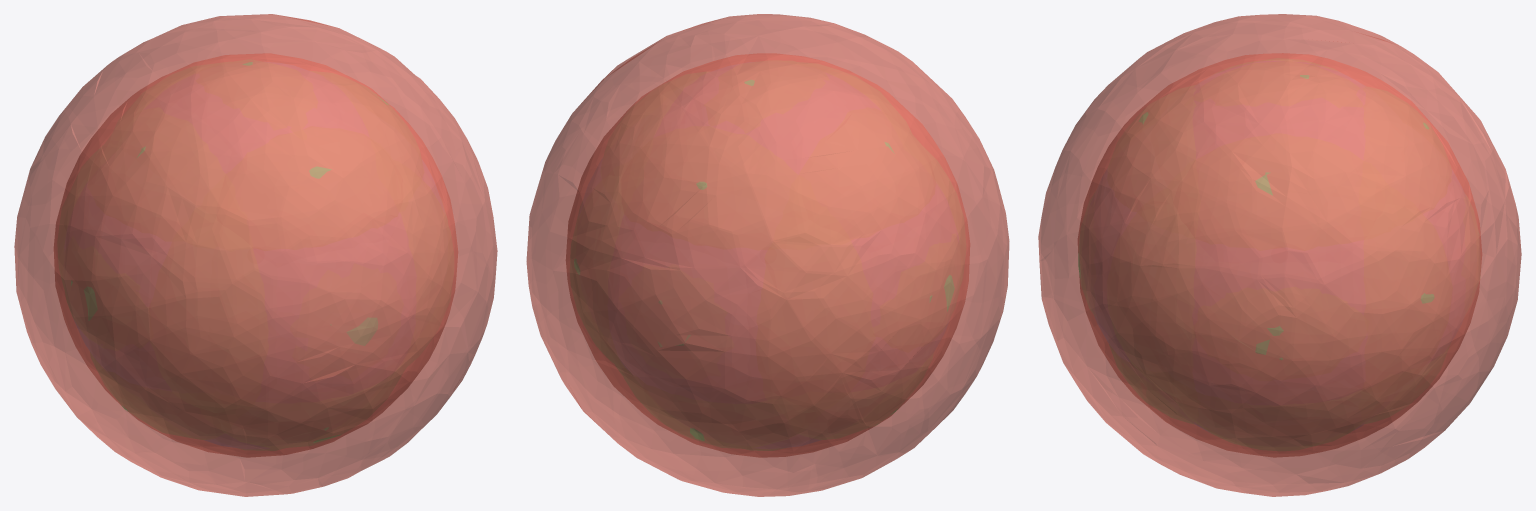
File: orbital.glb
The picture shows the model from 3 angles, left to right: view 1: azimuth 30°, elevation 25°; view 2: azimuth 150°, elevation 25°; view 3: azimuth 270°, elevation 25°; orthographic projection.
Parts seen in each view (by area): view 1: Pt_n6_s_ml0_node, Pt_n5_s_ml0_node, Pt_n5_d_ml0_node; view 2: Pt_n6_s_ml0_node, Pt_n5_s_ml0_node; view 3: Pt_n6_s_ml0_node, Pt_n5_s_ml0_node.
Boxes of the visible parts, x1=… form: Pt_n6_s_ml0_node: x1=14, y1=14, x2=497, y2=496; Pt_n5_s_ml0_node: x1=54, y1=53, x2=457, y2=457; Pt_n5_d_ml0_node: x1=330, y1=317, x2=377, y2=345; Pt_n6_s_ml0_node: x1=526, y1=14, x2=1009, y2=496; Pt_n5_s_ml0_node: x1=566, y1=53, x2=969, y2=457; Pt_n6_s_ml0_node: x1=1038, y1=14, x2=1521, y2=496; Pt_n5_s_ml0_node: x1=1078, y1=53, x2=1481, y2=457.
Size of the model in its own units: 3.06 by 3.06 by 3.06.
